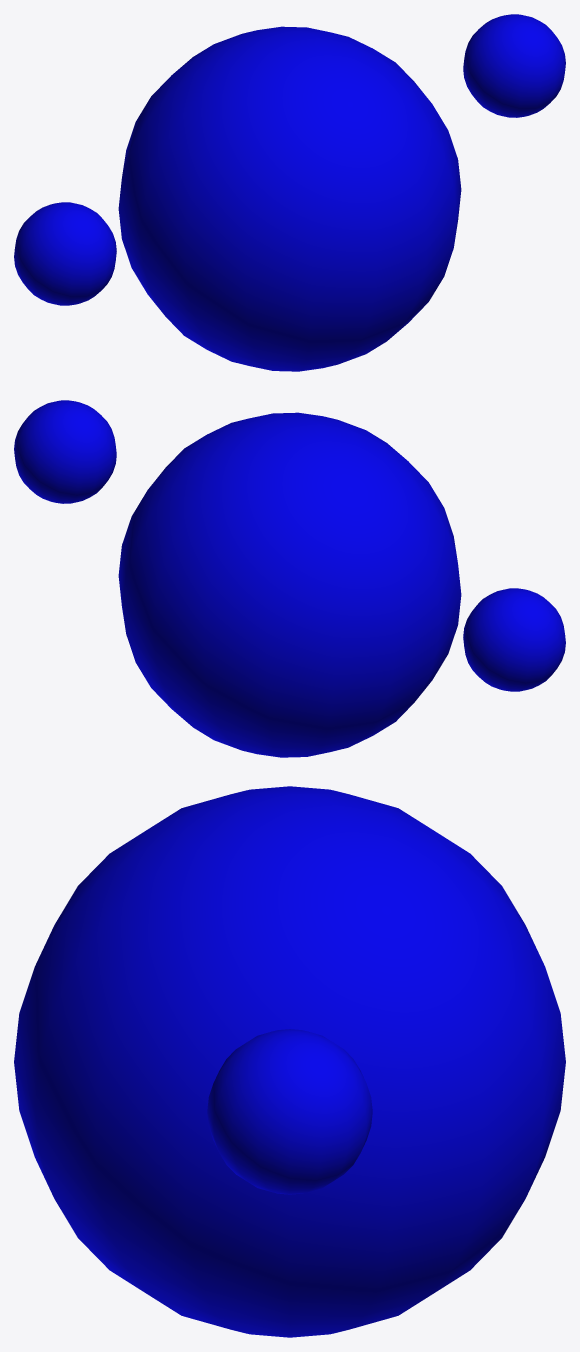
Rendered from actor2.fbx.
3 renders of one model, top to bottom at view 1: azimuth 30°, elevation 25°; view 2: azimuth 150°, elevation 25°; view 3: azimuth 270°, elevation 25°, orthographic. The views are drawn at different scales.
Visible parts, largest first — view 1: Sphere, Sphere.001, Sphere.002; view 2: Sphere, Sphere.001, Sphere.002; view 3: Sphere, Sphere.001.
Boxes of the visible parts, x1,y1,x2,y2 form: Sphere: (118,26,461,371); Sphere.001: (463,14,565,117); Sphere.002: (14,202,116,305); Sphere: (118,412,461,757); Sphere.001: (14,400,116,503); Sphere.002: (463,588,565,691); Sphere: (14,786,565,1337); Sphere.001: (207,1029,372,1194).
Bounding box in the file's own units: 3.6 × 2 × 2.
